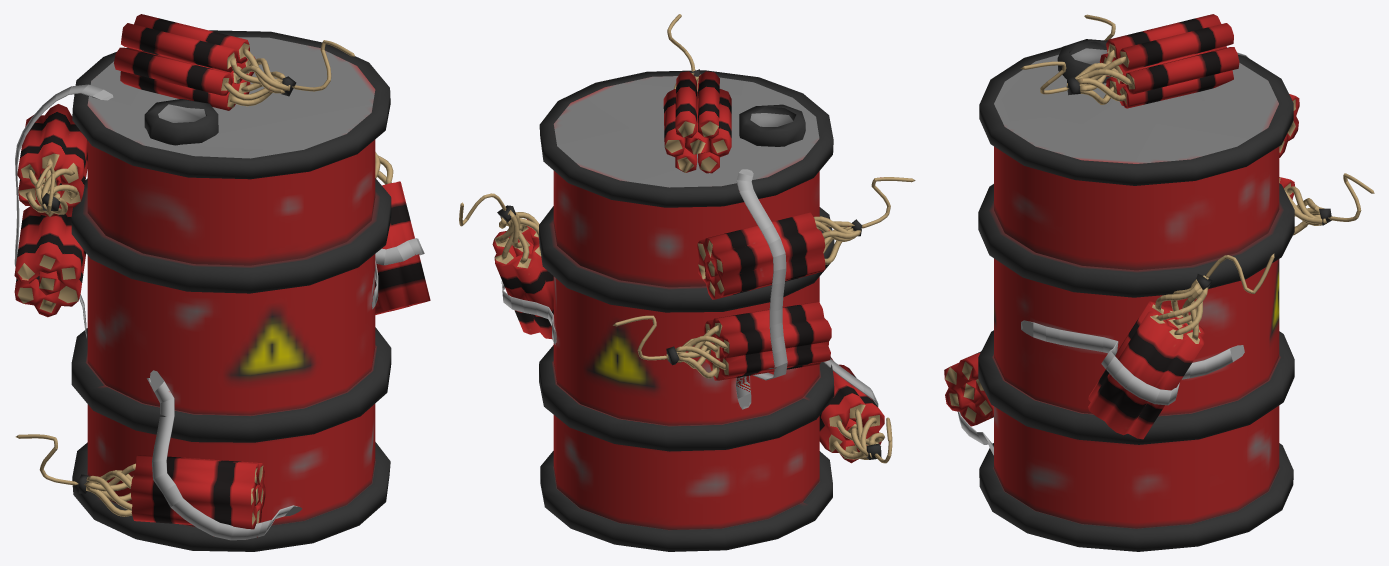
Rendered from EvenMoreExplosiveBarrelLOD2.fbx.
3 views of the same model, side by side, from view 1: azimuth 30°, elevation 25°; view 2: azimuth 150°, elevation 25°; view 3: azimuth 270°, elevation 25° (orthographic). The views are drawn at different scales.
Visible parts, largest first — view 1: OilBarrel; view 2: OilBarrel; view 3: OilBarrel.
Part boxes in pixels (box(x1,y1,x2,y2)): OilBarrel: box(14, 14, 430, 551); OilBarrel: box(459, 14, 915, 551); OilBarrel: box(944, 14, 1374, 551).
Bounding box in the file's own units: 233 × 248 × 214.
